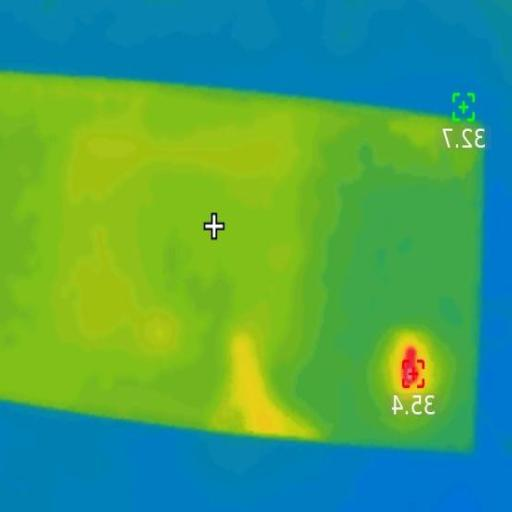hotspot: (400, 348, 425, 388)
